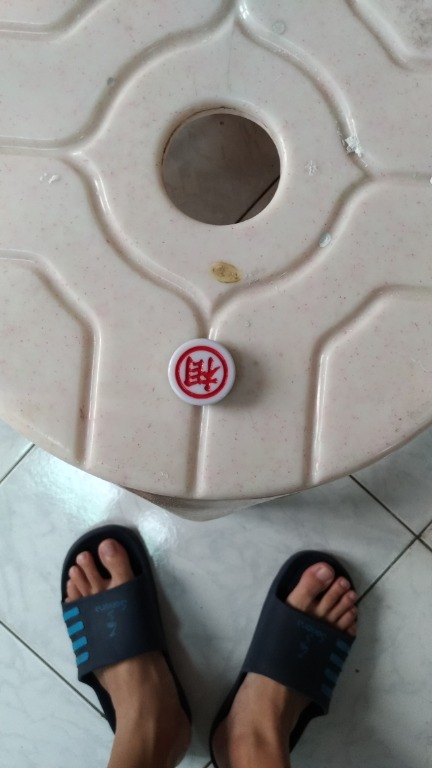r-elephant: (166, 335, 246, 418)
